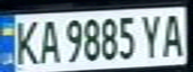5: (115, 12, 139, 61)
8: (81, 15, 103, 62), (100, 15, 121, 62)
9: (60, 16, 84, 63)
A: (160, 10, 187, 58), (36, 16, 60, 65)
K: (9, 16, 42, 66)
Y: (136, 11, 166, 60)
